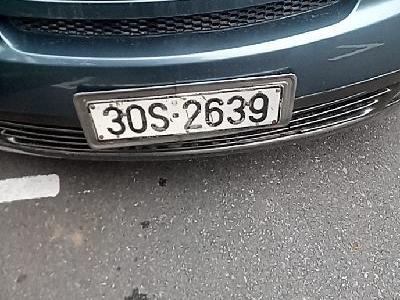lisence: (71, 73, 298, 151)
